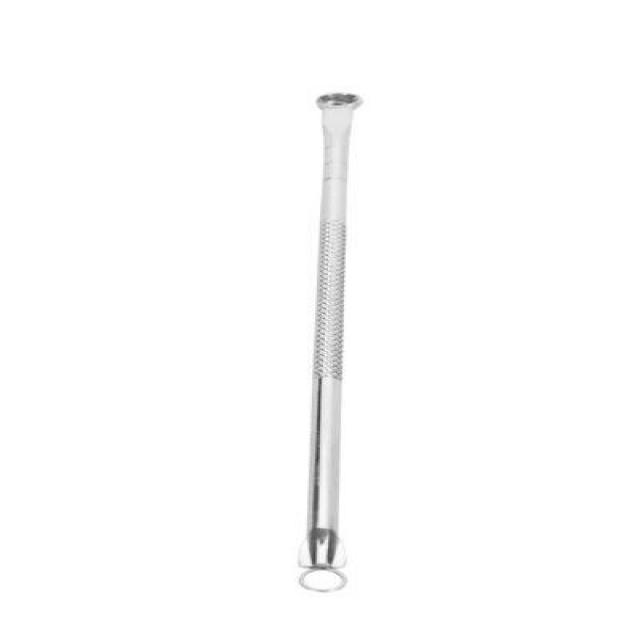Pole: (300, 93, 362, 592)
